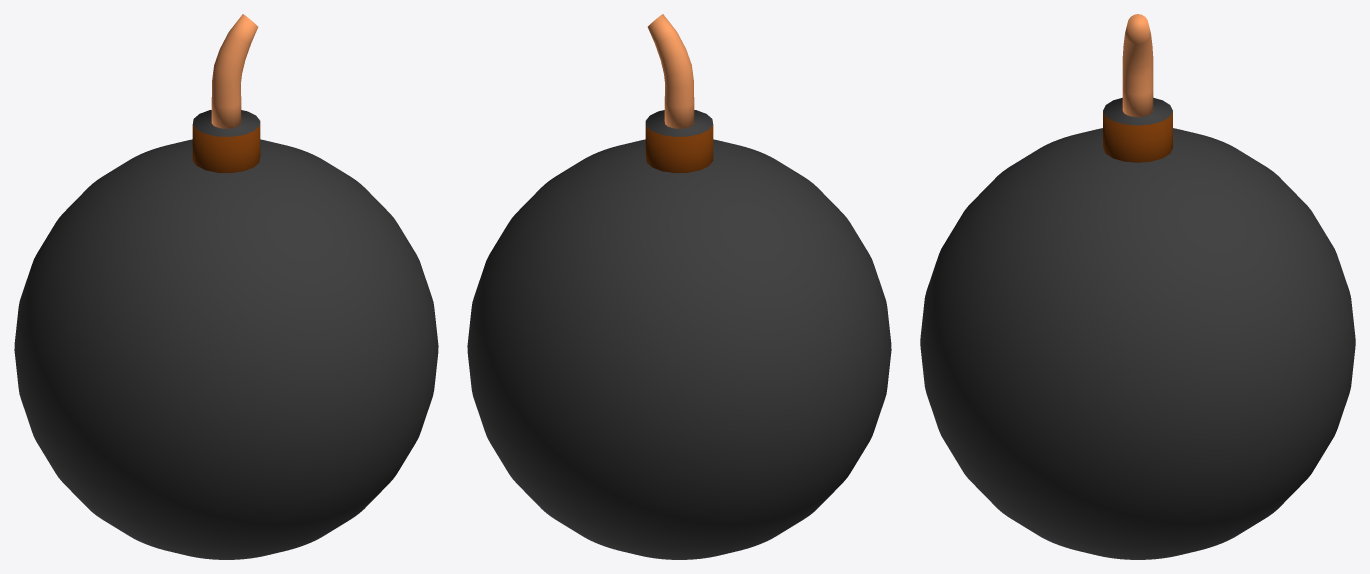
Rendered from bomba.fbx.
3 views of the same model, side by side, from view 1: azimuth 30°, elevation 25°; view 2: azimuth 150°, elevation 25°; view 3: azimuth 270°, elevation 25° (orthographic). The views are drawn at different scales.
Parts seen in each view (by area): view 1: Sphere; view 2: Sphere; view 3: Sphere.
Part boxes in pixels (bbox=[...]): Sphere: bbox=[14, 14, 438, 559]; Sphere: bbox=[467, 14, 891, 559]; Sphere: bbox=[920, 14, 1355, 559].
Size of the model in its own units: 200 by 271 by 200.
